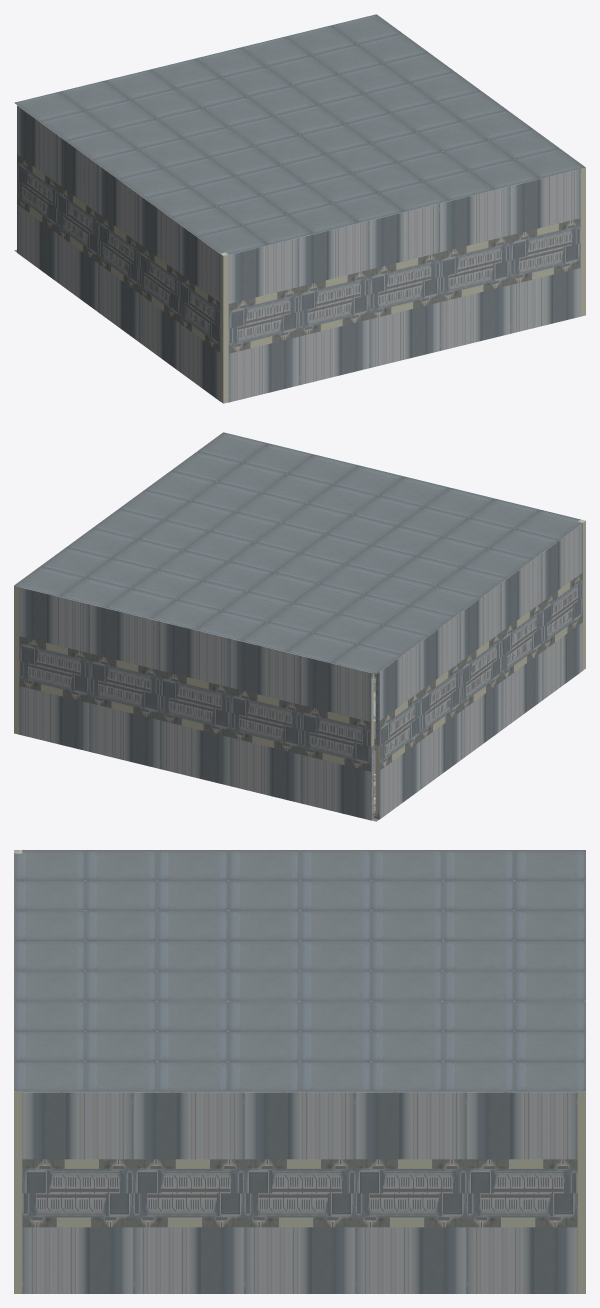
File: Warehouse.fbx
3 views of the same model, one above another, from view 1: azimuth 30°, elevation 25°; view 2: azimuth 150°, elevation 25°; view 3: azimuth 270°, elevation 25° (orthographic). The views are drawn at different scales.
Visible parts, largest first — view 1: Plane.001, Wall.019, Wall.016, Wall.018, Wall.017, Wall.020, Wall.032, Wall.003, Wall.001, Wall.002, Wall.004, Wall.028 (+11 smaller); view 2: Plane.001, Wall.031, Wall.014, Wall.043, Wall.044, Wall.046, Wall.045, Wall.015, Wall.005, Wall.029, Wall.030, Wall.047 (+10 smaller); view 3: Plane.001, Wall.040, Wall.038, Wall.039, Wall.041, Wall.042, Wall.033, Wall.034, Wall.035, Wall.036, Wall.037, Cube.011 (+1 smaller).
Boxes of the visible parts, bbox=[...] form: Plane.001: bbox=[14, 14, 585, 254]; Wall.019: bbox=[299, 220, 369, 311]; Wall.016: bbox=[510, 169, 580, 259]; Wall.018: bbox=[369, 203, 439, 294]; Wall.017: bbox=[440, 186, 510, 277]; Wall.020: bbox=[228, 237, 298, 328]; Wall.032: bbox=[510, 243, 580, 333]; Wall.003: bbox=[299, 294, 369, 385]; Wall.001: bbox=[440, 260, 510, 350]; Wall.002: bbox=[369, 277, 439, 368]; Wall.004: bbox=[228, 312, 298, 402]; Wall.028: bbox=[57, 135, 98, 238]; Plane.001: bbox=[14, 432, 582, 673]; Wall.031: bbox=[301, 655, 374, 746]; Wall.014: bbox=[301, 730, 374, 820]; Wall.043: bbox=[230, 638, 300, 729]; Wall.044: bbox=[160, 621, 230, 712]; Wall.046: bbox=[19, 587, 89, 677]; Wall.045: bbox=[89, 604, 159, 695]; Wall.015: bbox=[230, 712, 300, 803]; Wall.005: bbox=[19, 661, 89, 751]; Wall.029: bbox=[160, 695, 230, 786]; Wall.030: bbox=[89, 678, 159, 768]; Wall.047: bbox=[374, 642, 420, 745]; Plane.001: bbox=[14, 850, 585, 1091]; Wall.040: bbox=[244, 1091, 355, 1193]; Wall.038: bbox=[466, 1091, 577, 1193]; Wall.039: bbox=[355, 1091, 466, 1193]; Wall.041: bbox=[133, 1091, 244, 1193]; Wall.042: bbox=[22, 1091, 133, 1193]; Wall.033: bbox=[355, 1193, 466, 1293]; Wall.034: bbox=[466, 1193, 577, 1293]; Wall.035: bbox=[244, 1193, 355, 1293]; Wall.036: bbox=[133, 1193, 244, 1293]; Wall.037: bbox=[22, 1193, 133, 1293]; Cube.011: bbox=[577, 1091, 585, 1293].
Bounding box in the file's own units: 3219 × 1255 × 3219.
